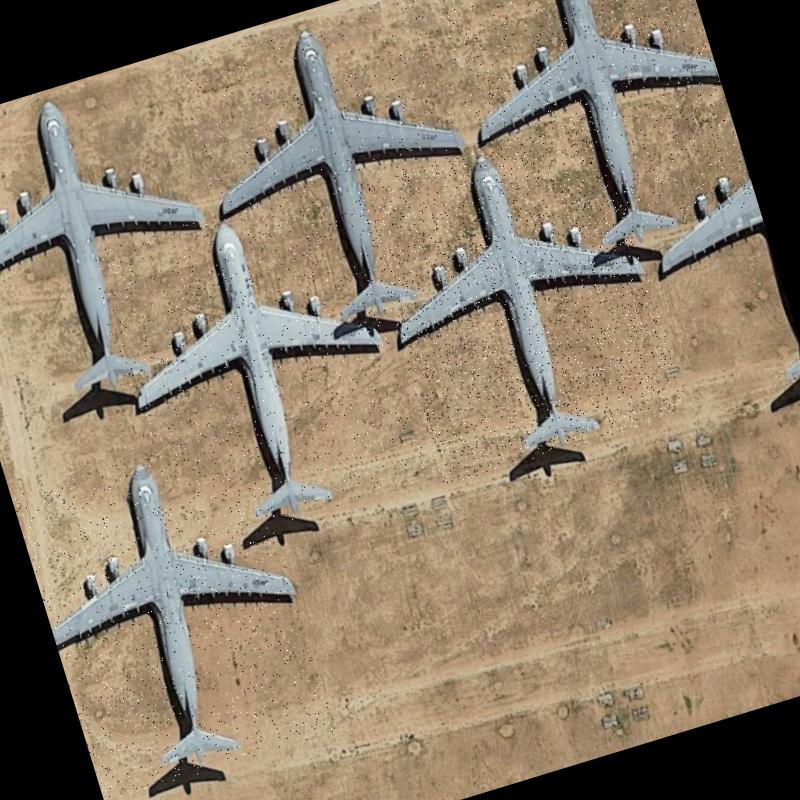A4: (86, 177, 431, 555), (352, 114, 689, 486), (11, 425, 337, 800), (173, 0, 508, 351), (429, 0, 757, 276), (0, 60, 245, 427)
